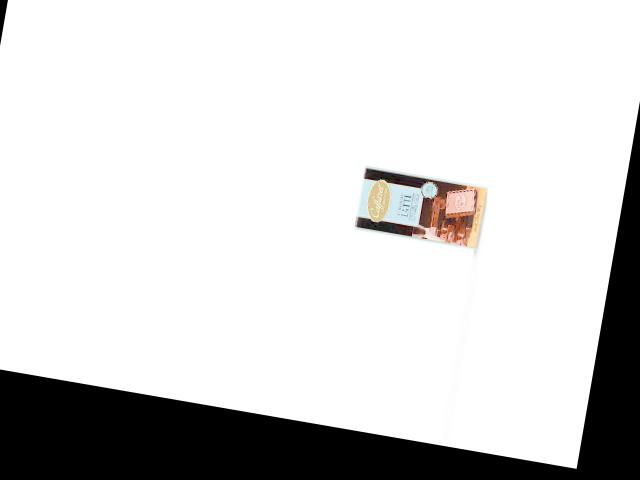chocolate: (352, 164, 489, 253)
